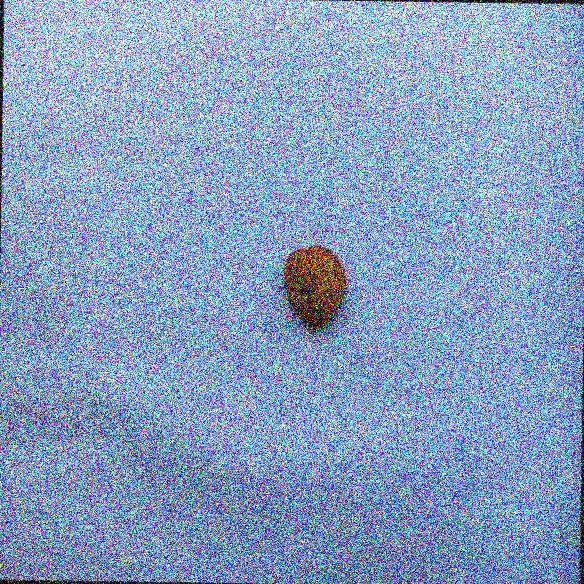grade3: (279, 241, 348, 332)
